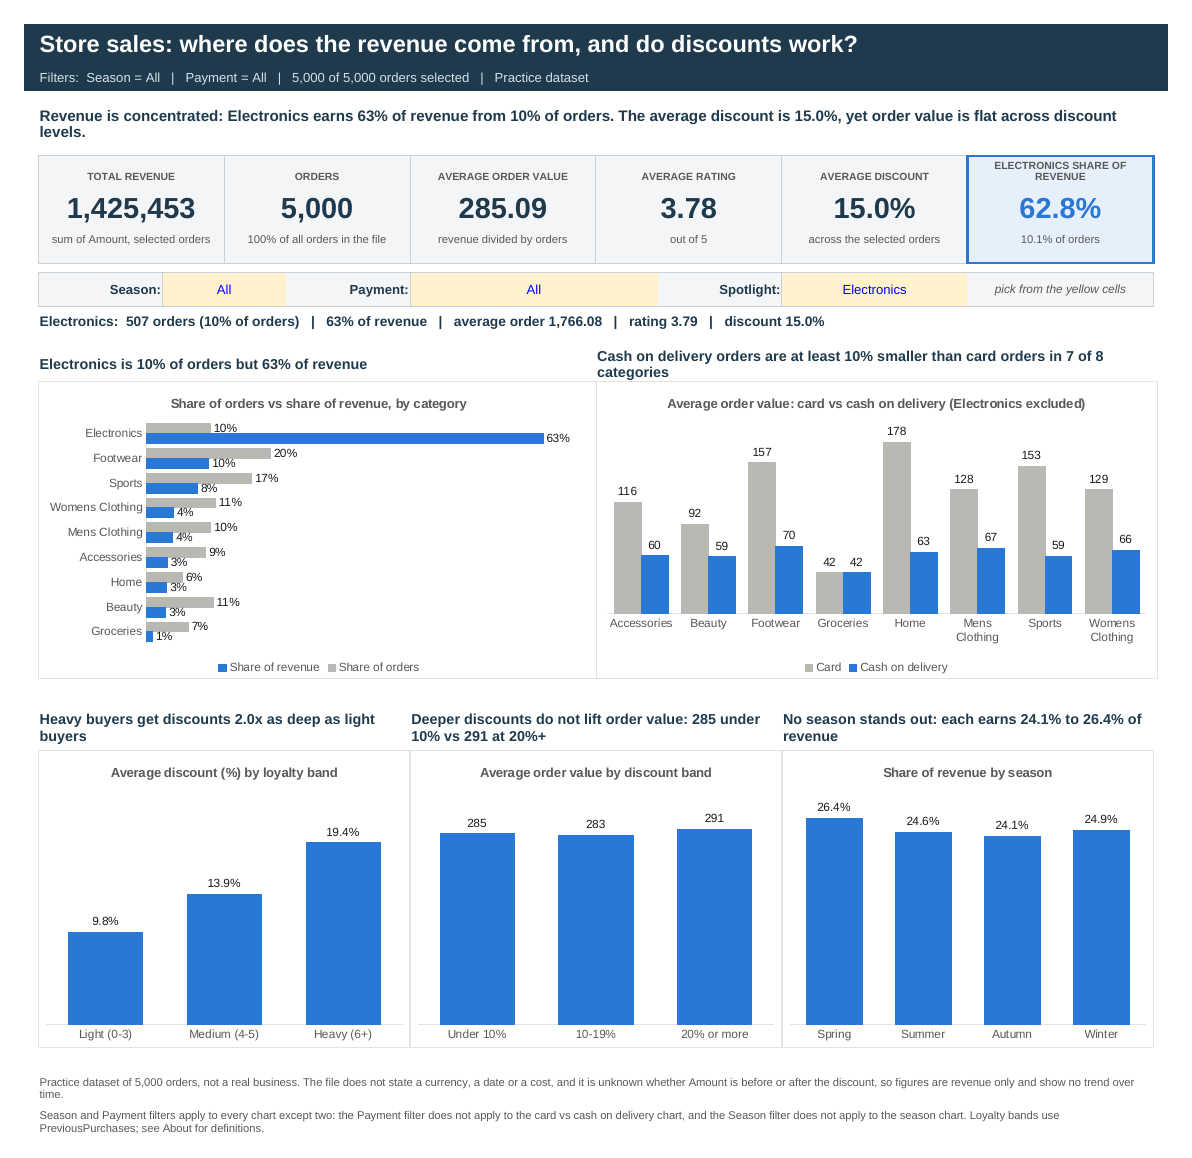

Layout of this report page (visuals, bound fields, positions):
{"tool":"powerbi","page":{"name":"Page 1","canvas":[1920,1080],"ordinal":0},"visuals":[{"type":"cardVisual","fields":{"Data":["Sum(store_orders.Amount)","Sum(store_orders.Orders)","Avg(store_orders.Discount %)","Avg(store_orders.Amount)","Avg(store_orders.Rating)","store_orders.Electronics revenue share"]},"box":[30.8,12.7,1869.8,201.9],"z":0},{"type":"slicer","fields":{"Values":["store_orders.Season"]},"box":[25.3,222.6,634,111.3],"z":1},{"type":"slicer","fields":{"Values":["store_orders.Payment Method"]},"box":[658.7,224.4,617,111.3],"z":2},{"type":"slicer","fields":{"Values":["store_orders.Category"]},"box":[1275.8,226.2,618.9,111.3],"z":3},{"type":"clusteredBarChart","fields":{"Category":["store_orders.Category"],"Y":["store_orders.Revenue share","store_orders.Orders share"]},"box":[25.3,300.4,917,413.2],"z":4},{"type":"clusteredColumnChart","fields":{"Category":["store_orders.Category"],"Series":["store_orders.Payment Method"],"Y":["Avg(store_orders.Amount)"]},"box":[973.6,300.4,926.4,413.2],"z":5},{"type":"clusteredColumnChart","fields":{"Category":["store_orders.Loyalty Band"],"Y":["Avg(store_orders.Discount %)"]},"box":[76,713,532,367.4],"z":6},{"type":"clusteredColumnChart","fields":{"Category":["store_orders.Discount Band"],"Y":["Avg(store_orders.Amount)"]},"box":[658.7,713,548.3,367.4],"z":7},{"type":"clusteredColumnChart","fields":{"Category":["store_orders.Season"],"Y":["Sum(store_orders.Amount)"]},"box":[1245,713,655.1,367.4],"z":8}]}

Visuals, with their boxes on the page's 1920x1080 design canvas (x1, y1, x2, y2). These are canvas units, not pixel positions in the 1192x1158 screenshot, which may show the page scaled, cropped or inside an application window:
cardVisual - Sum(store_orders.Amount) x Sum(store_orders.Orders): bbox=(31, 13, 1901, 215)
slicer - store_orders.Season: bbox=(25, 223, 659, 334)
slicer - store_orders.Payment Method: bbox=(659, 224, 1276, 336)
slicer - store_orders.Category: bbox=(1276, 226, 1895, 338)
clusteredBarChart - store_orders.Category x store_orders.Revenue share: bbox=(25, 300, 942, 714)
clusteredColumnChart - store_orders.Category x store_orders.Payment Method: bbox=(974, 300, 1900, 714)
clusteredColumnChart - store_orders.Loyalty Band x Avg(store_orders.Discount %): bbox=(76, 713, 608, 1080)
clusteredColumnChart - store_orders.Discount Band x Avg(store_orders.Amount): bbox=(659, 713, 1207, 1080)
clusteredColumnChart - store_orders.Season x Sum(store_orders.Amount): bbox=(1245, 713, 1900, 1080)
